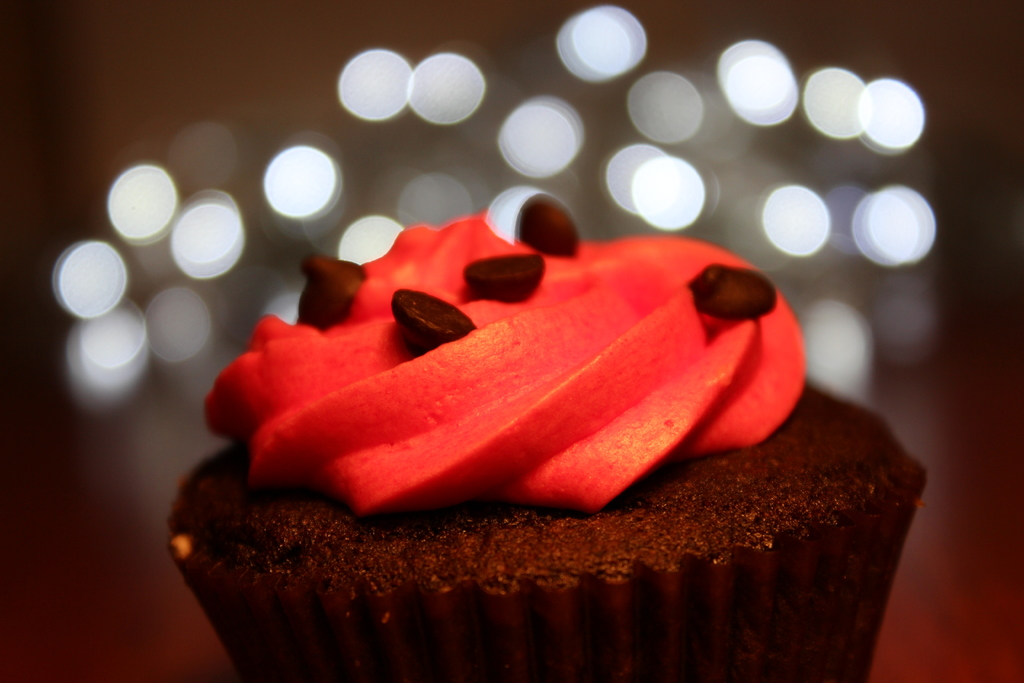cake: (200, 234, 908, 683)
